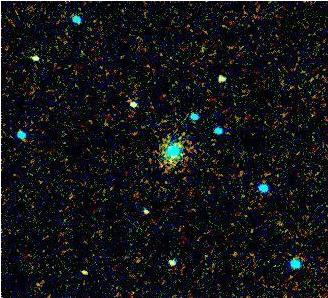star: (67, 256, 97, 286)
